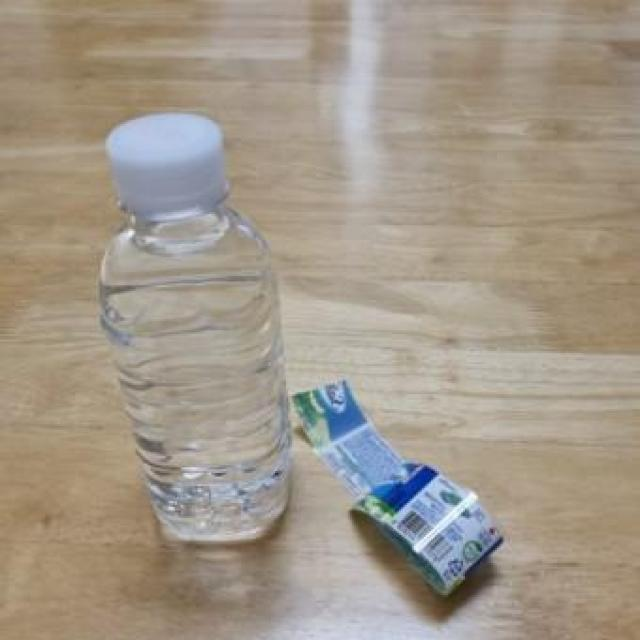bottle: (102, 101, 294, 539)
